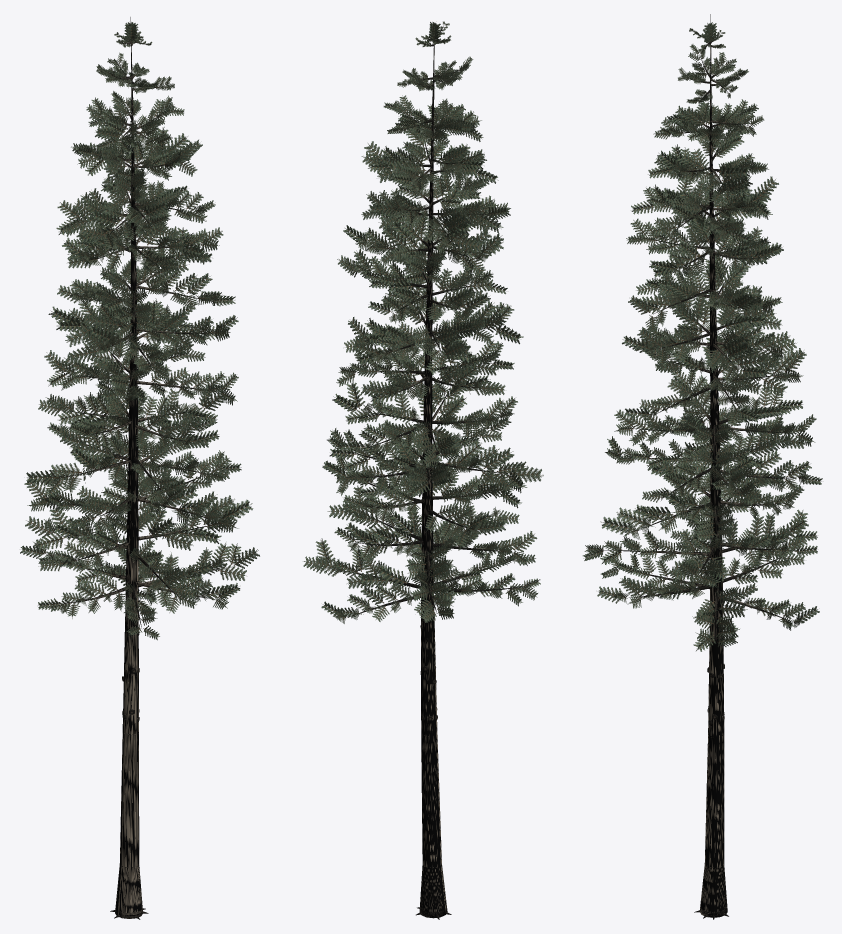
File: Sitka_Mature_03_MediumPruned_Healed_LOD0.fbx
The picture shows the model from 3 angles, left to right: view 1: azimuth 30°, elevation 25°; view 2: azimuth 150°, elevation 25°; view 3: azimuth 270°, elevation 25°; orthographic projection.
Parts seen in each view (by area): view 1: Sitka_Mature_03_MediumPruned_Healed_LOD0; view 2: Sitka_Mature_03_MediumPruned_Healed_LOD0; view 3: Sitka_Mature_03_MediumPruned_Healed_LOD0.
Boxes of the visible parts, x1,y1,x2,y2 form: Sitka_Mature_03_MediumPruned_Healed_LOD0: (20,17,259,919); Sitka_Mature_03_MediumPruned_Healed_LOD0: (303,21,543,919); Sitka_Mature_03_MediumPruned_Healed_LOD0: (582,14,822,919).
Bounding box in the file's own units: 656 × 2400 × 607.
3 materials, 3 textured.
